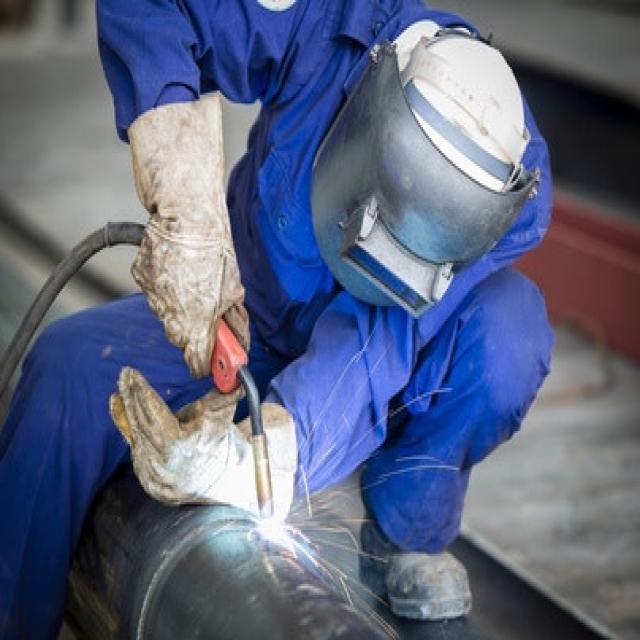welding: (256, 513, 284, 544)
